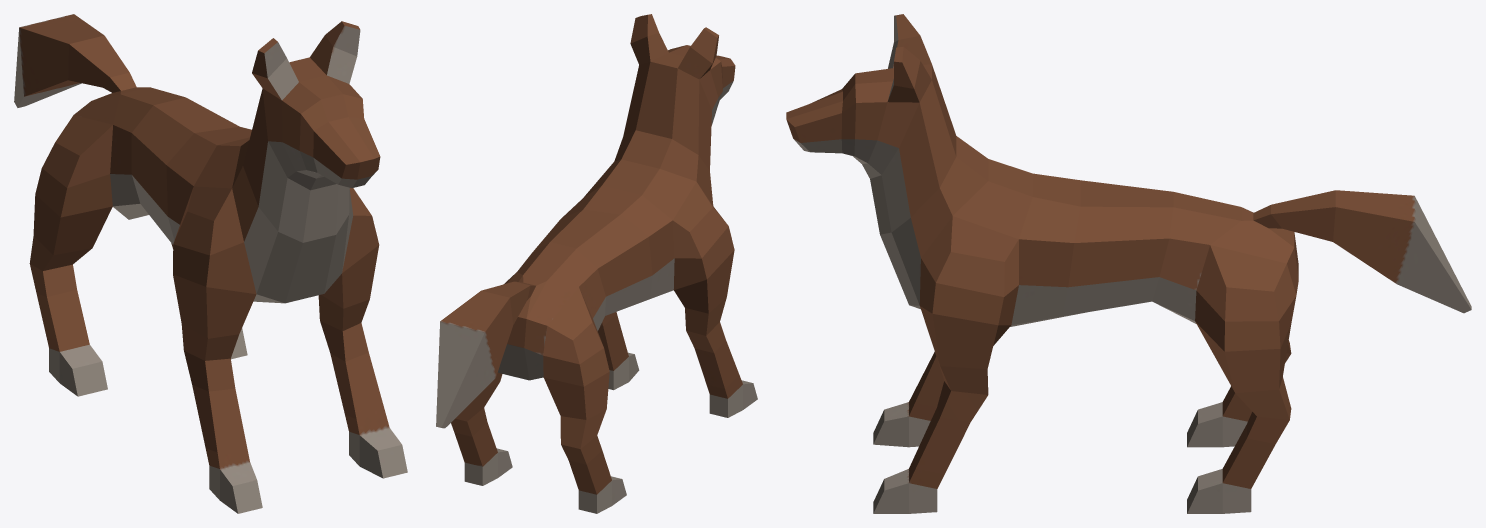
Rendered from dog.obj.
The picture shows the model from 3 angles, left to right: view 1: azimuth 30°, elevation 25°; view 2: azimuth 150°, elevation 25°; view 3: azimuth 270°, elevation 25°; orthographic projection. The views are drawn at different scales.
Parts seen in each view (by area): view 1: Mesh; view 2: Mesh; view 3: Mesh.
Part boxes in pixels (x1,y1,x2,y2): Mesh: (14, 14, 407, 513); Mesh: (436, 14, 757, 513); Mesh: (786, 14, 1471, 513).
Size of the model in its own units: 5.75 by 14.37 by 20.14.
